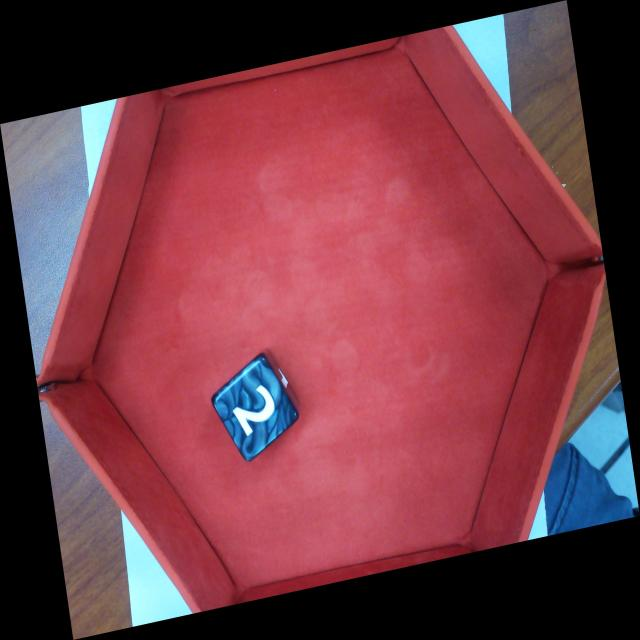dice: (208, 350, 303, 466)
